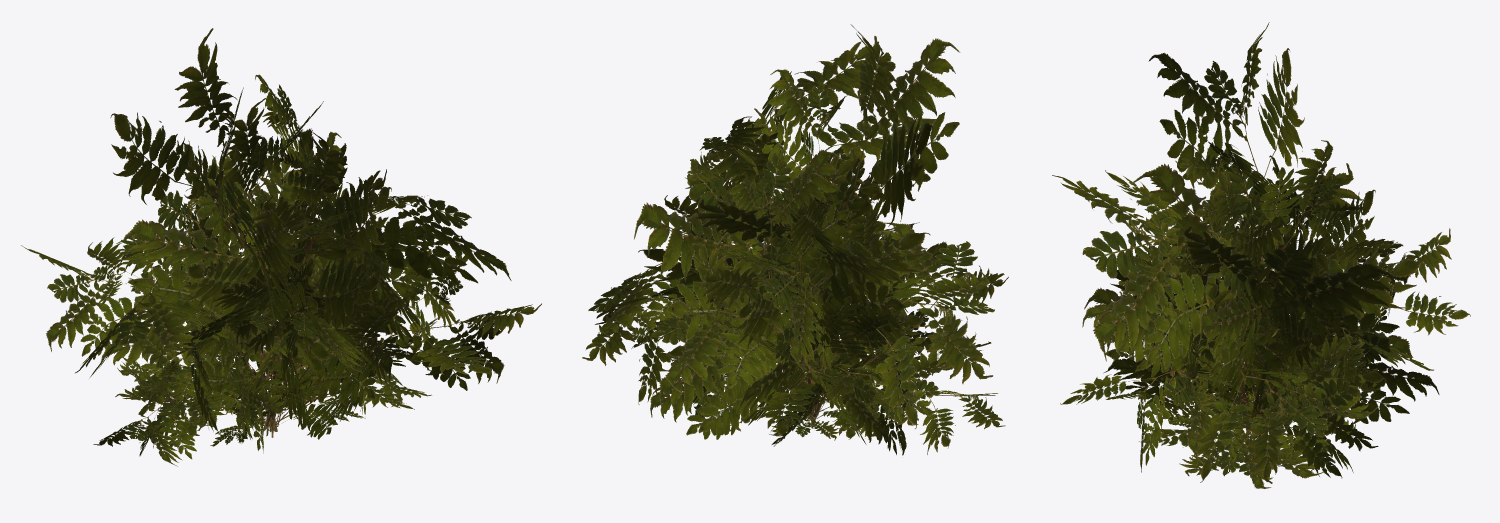
File: bush-large.glb
3 renders of one model, left to right at view 1: azimuth 30°, elevation 25°; view 2: azimuth 150°, elevation 25°; view 3: azimuth 270°, elevation 25°, orthographic. The views are drawn at different scales.
Visible parts, largest first — view 1: bush_01; view 2: bush_01; view 3: bush_01.
Boxes of the visible parts, left/top/right/bottom form: bush_01: left=21, top=28, right=541, bottom=466; bush_01: left=582, top=24, right=1008, bottom=455; bush_01: left=1052, top=22, right=1470, bottom=488.
Size of the model in its own units: 1.39 by 1.57 by 1.38.
1 material, 1 textured.
